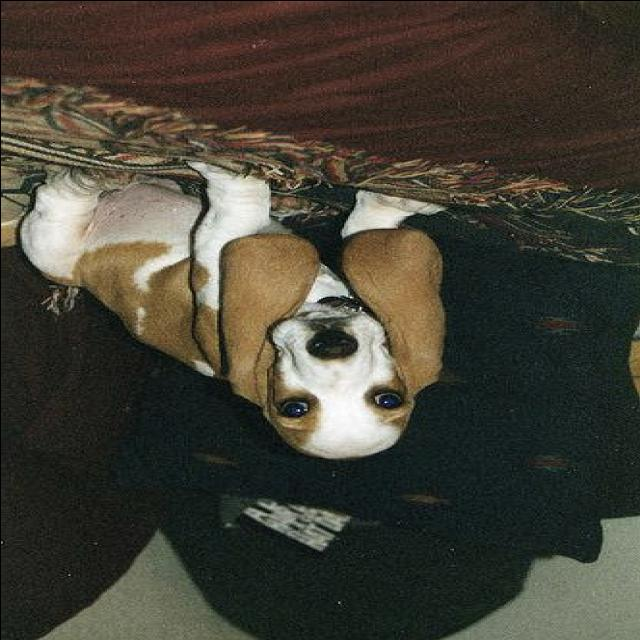basset: (21, 156, 451, 461)
